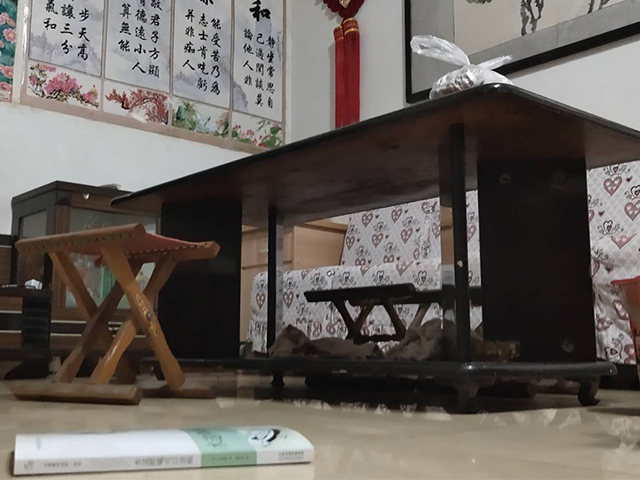book: (10, 423, 316, 478)
cabinet: (1, 180, 166, 381), (240, 217, 349, 348)
sofa: (248, 157, 640, 378)
stool: (9, 220, 223, 407), (298, 281, 434, 345)
table: (109, 81, 639, 416)
